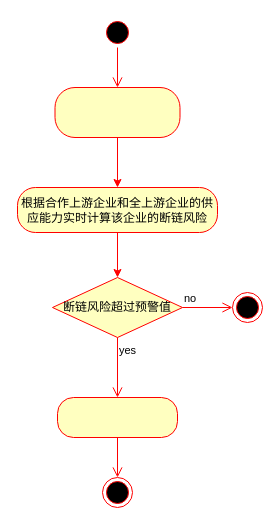
The diagram is 280 pixels wide and 525 high, and some of its shapes have lost their labels. Each missing label, with the centre of its shape:
"实时计算上中游企业的供应能力" belongs at (x=117, y=112).
"系统中提示并给该企业发送预警邮件" belongs at (x=117, y=417).
